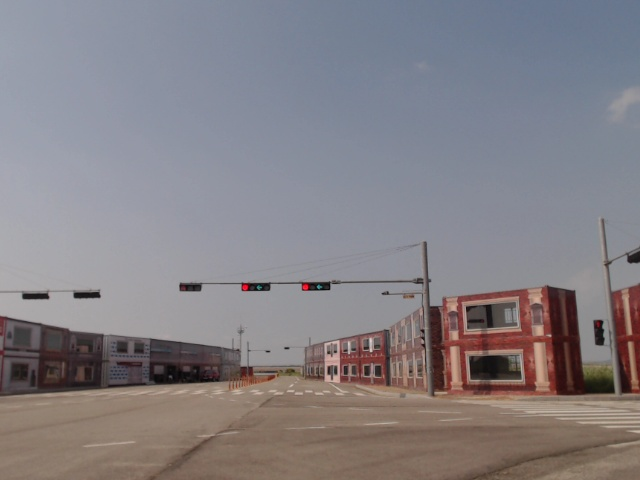left_green_4: (242, 283, 270, 291), (302, 283, 330, 290)
